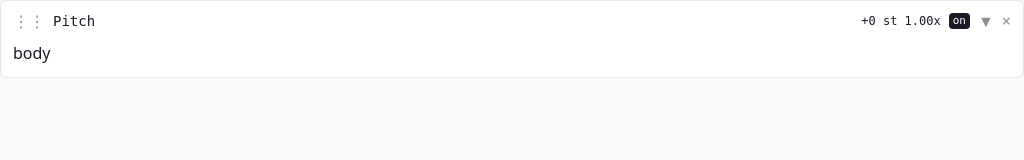
Test: SlotCard › caret toggles aria-expanded between true and false
Click the button named "Collapse Pitch".
click(986, 21)  # box [978,9,994,33]
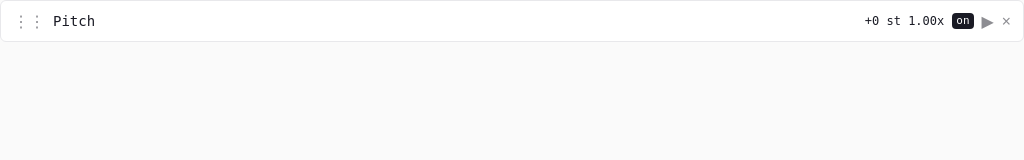
Now the button named "Expand Pitch" is collapsed, box [982,9,994,33]
